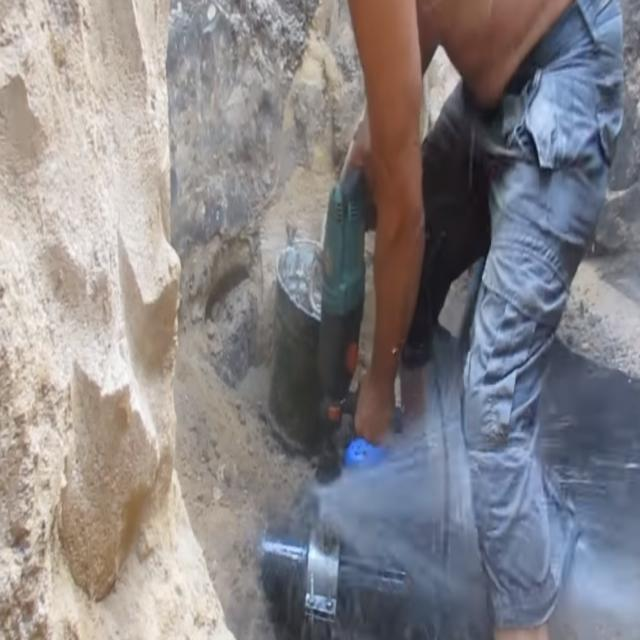leak: (318, 408, 488, 634)
